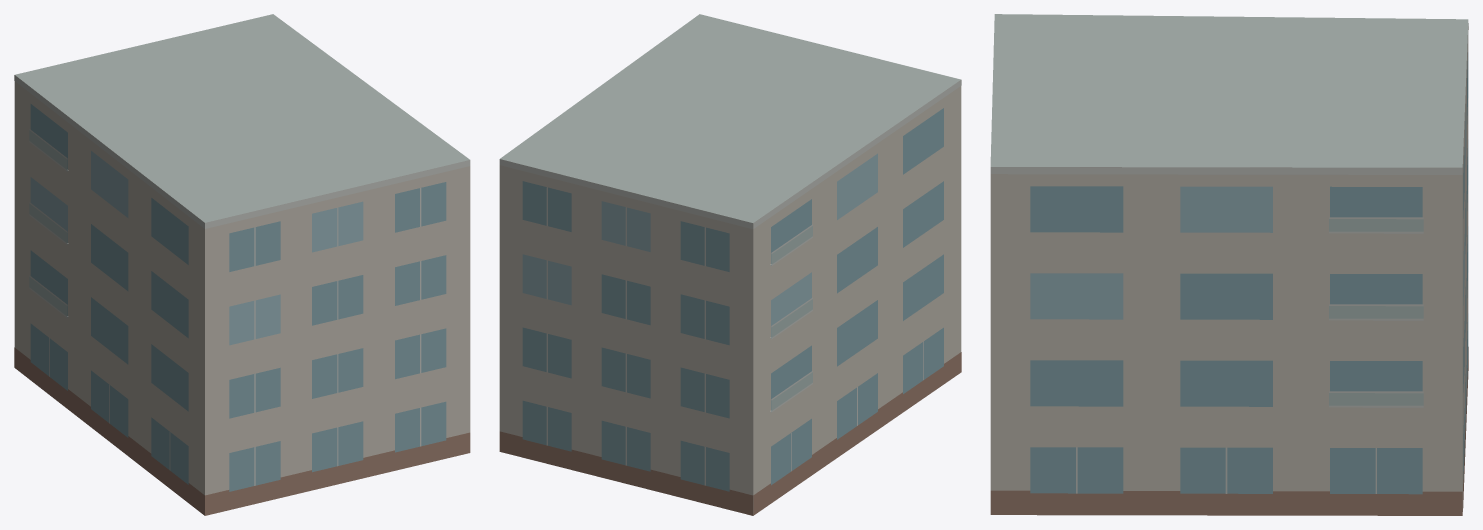
File: survey-upis-32584480.glb
3 renders of one model, left to right at view 1: azimuth 30°, elevation 25°; view 2: azimuth 150°, elevation 25°; view 3: azimuth 270°, elevation 25°, orthographic. The views are drawn at different scales.
Visible parts, largest first — view 1: survey-upis-32584480.tmp; view 2: survey-upis-32584480.tmp; view 3: survey-upis-32584480.tmp.
Boxes of the visible parts, bbox=[...] form: survey-upis-32584480.tmp: bbox=[14, 14, 470, 515]; survey-upis-32584480.tmp: bbox=[499, 14, 961, 515]; survey-upis-32584480.tmp: bbox=[990, 14, 1468, 515].
Bounding box in the file's own units: 11.12 × 11.7 × 14.57.
